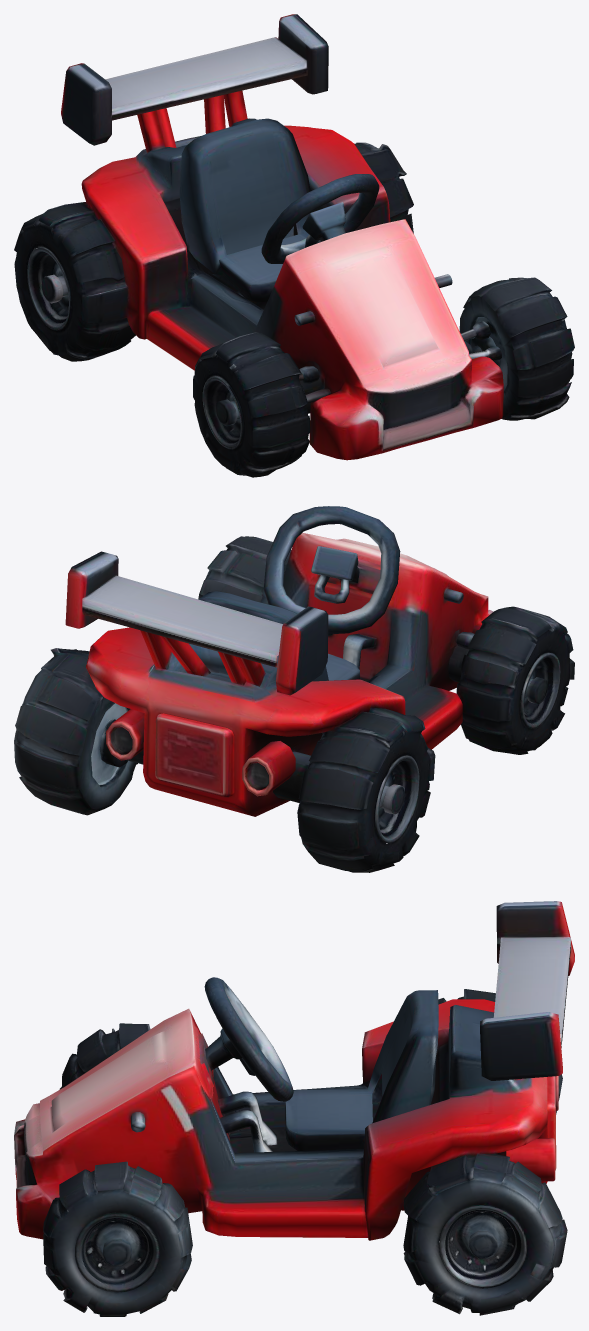
File: kart_toy.glb
The picture shows the model from 3 angles, top to bottom: view 1: azimuth 30°, elevation 25°; view 2: azimuth 150°, elevation 25°; view 3: azimuth 270°, elevation 25°; orthographic projection. The views are drawn at different scales.
Visible parts, largest first — view 1: Body, WheelRR, WheelFR, WheelFL, WheelRL; view 2: Body, WheelRR, WheelFR, WheelRL, WheelFL; view 3: Body, WheelRL, WheelFL, WheelFR.
Part boxes in pixels (left/top/right/bottom): Body: left=61, top=14, right=503, bottom=460; WheelRR: left=14, top=202, right=135, bottom=361; WheelFR: left=193, top=332, right=310, bottom=477; WheelFL: left=459, top=277, right=574, bottom=420; WheelRL: left=354, top=142, right=413, bottom=233; Body: left=65, top=506, right=493, bottom=816; WheelRR: left=297, top=707, right=435, bottom=872; WheelFR: left=456, top=606, right=574, bottom=754; WheelRL: left=14, top=648, right=137, bottom=815; WheelFL: left=198, top=536, right=291, bottom=604; Body: left=14, top=901, right=574, bottom=1240; WheelRL: left=403, top=1153, right=567, bottom=1315; WheelFL: left=43, top=1161, right=192, bottom=1316; WheelFR: left=59, top=1023, right=150, bottom=1089.
Bounding box in the file's own units: 2.12 × 1.52 × 2.75.
Materials: 1 (1 with a texture image).
